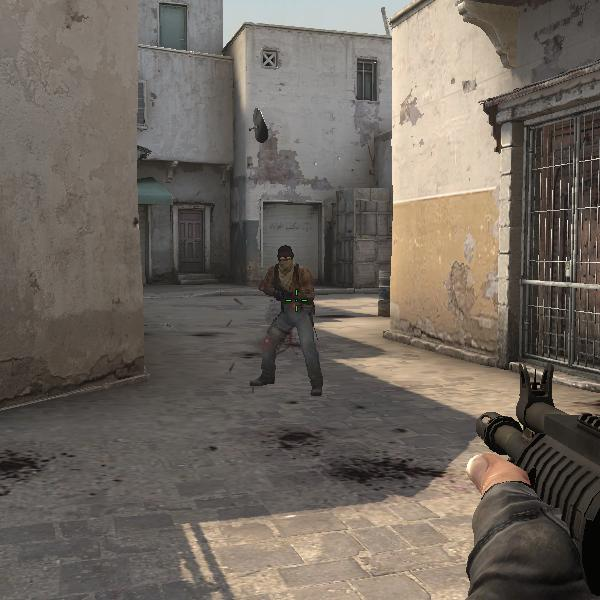t_body: (249, 245, 324, 398)
t_head: (272, 247, 297, 274)
